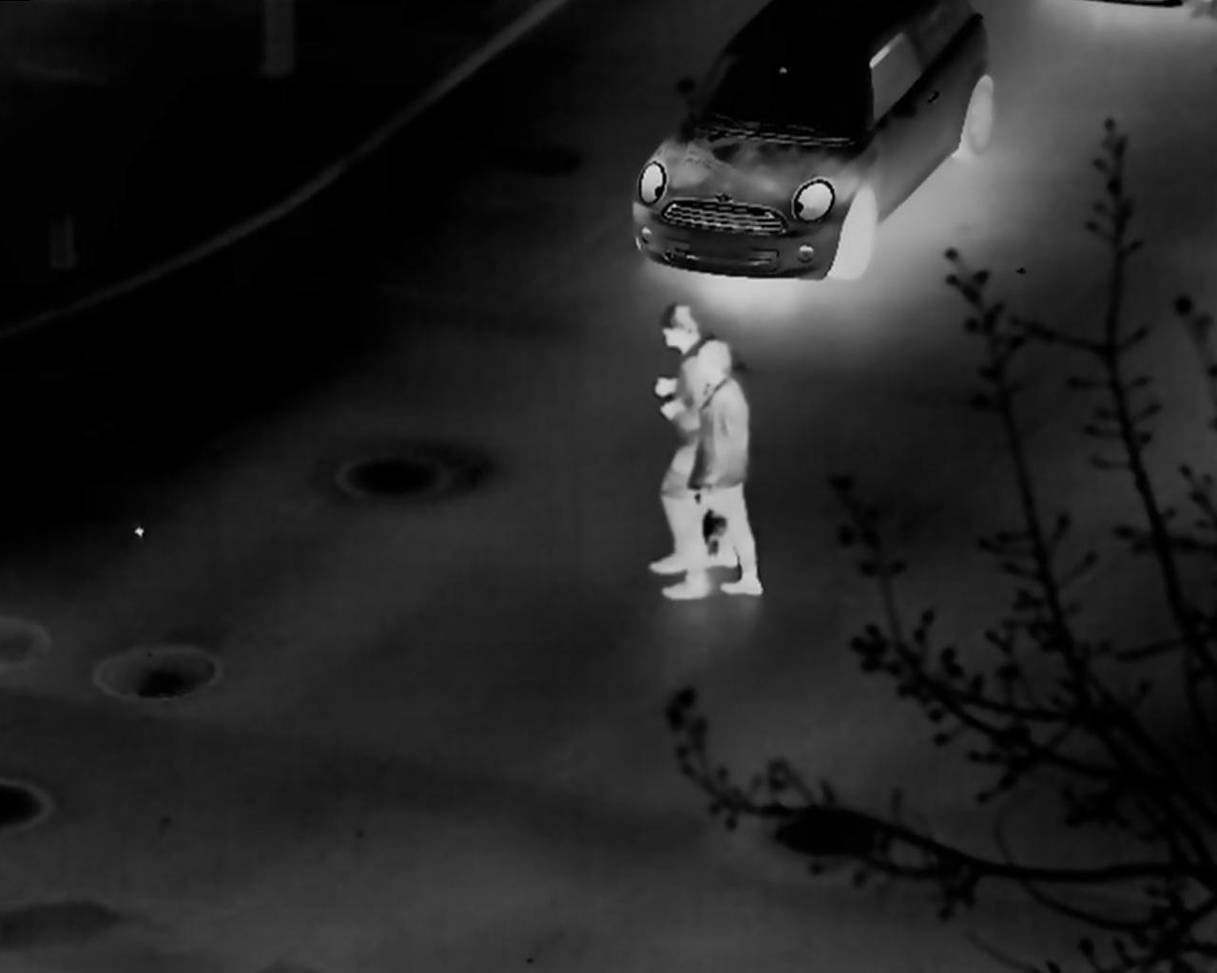person: (667, 339, 765, 597), (647, 298, 711, 582)
